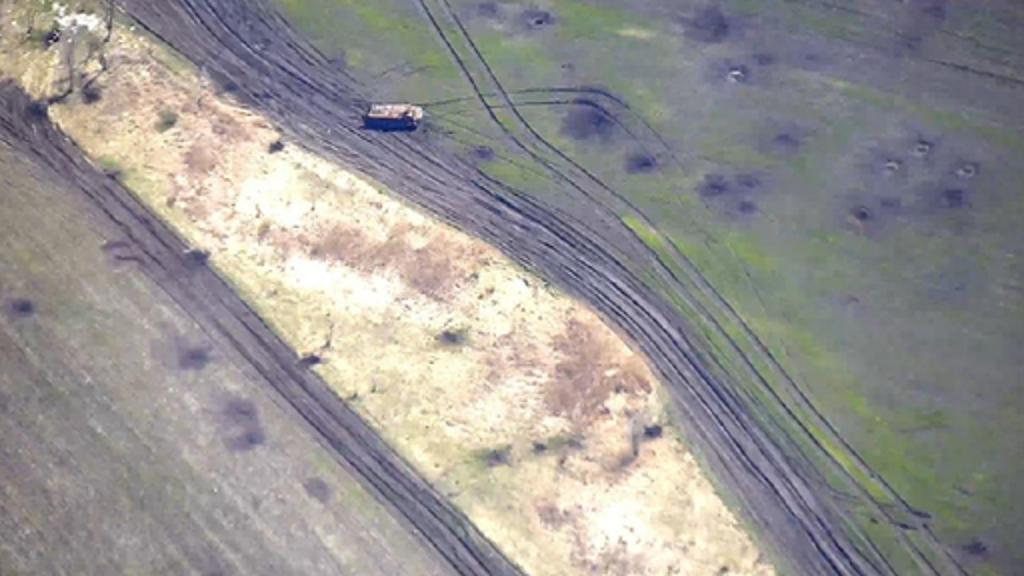APC-IFV: (354, 96, 428, 132)
